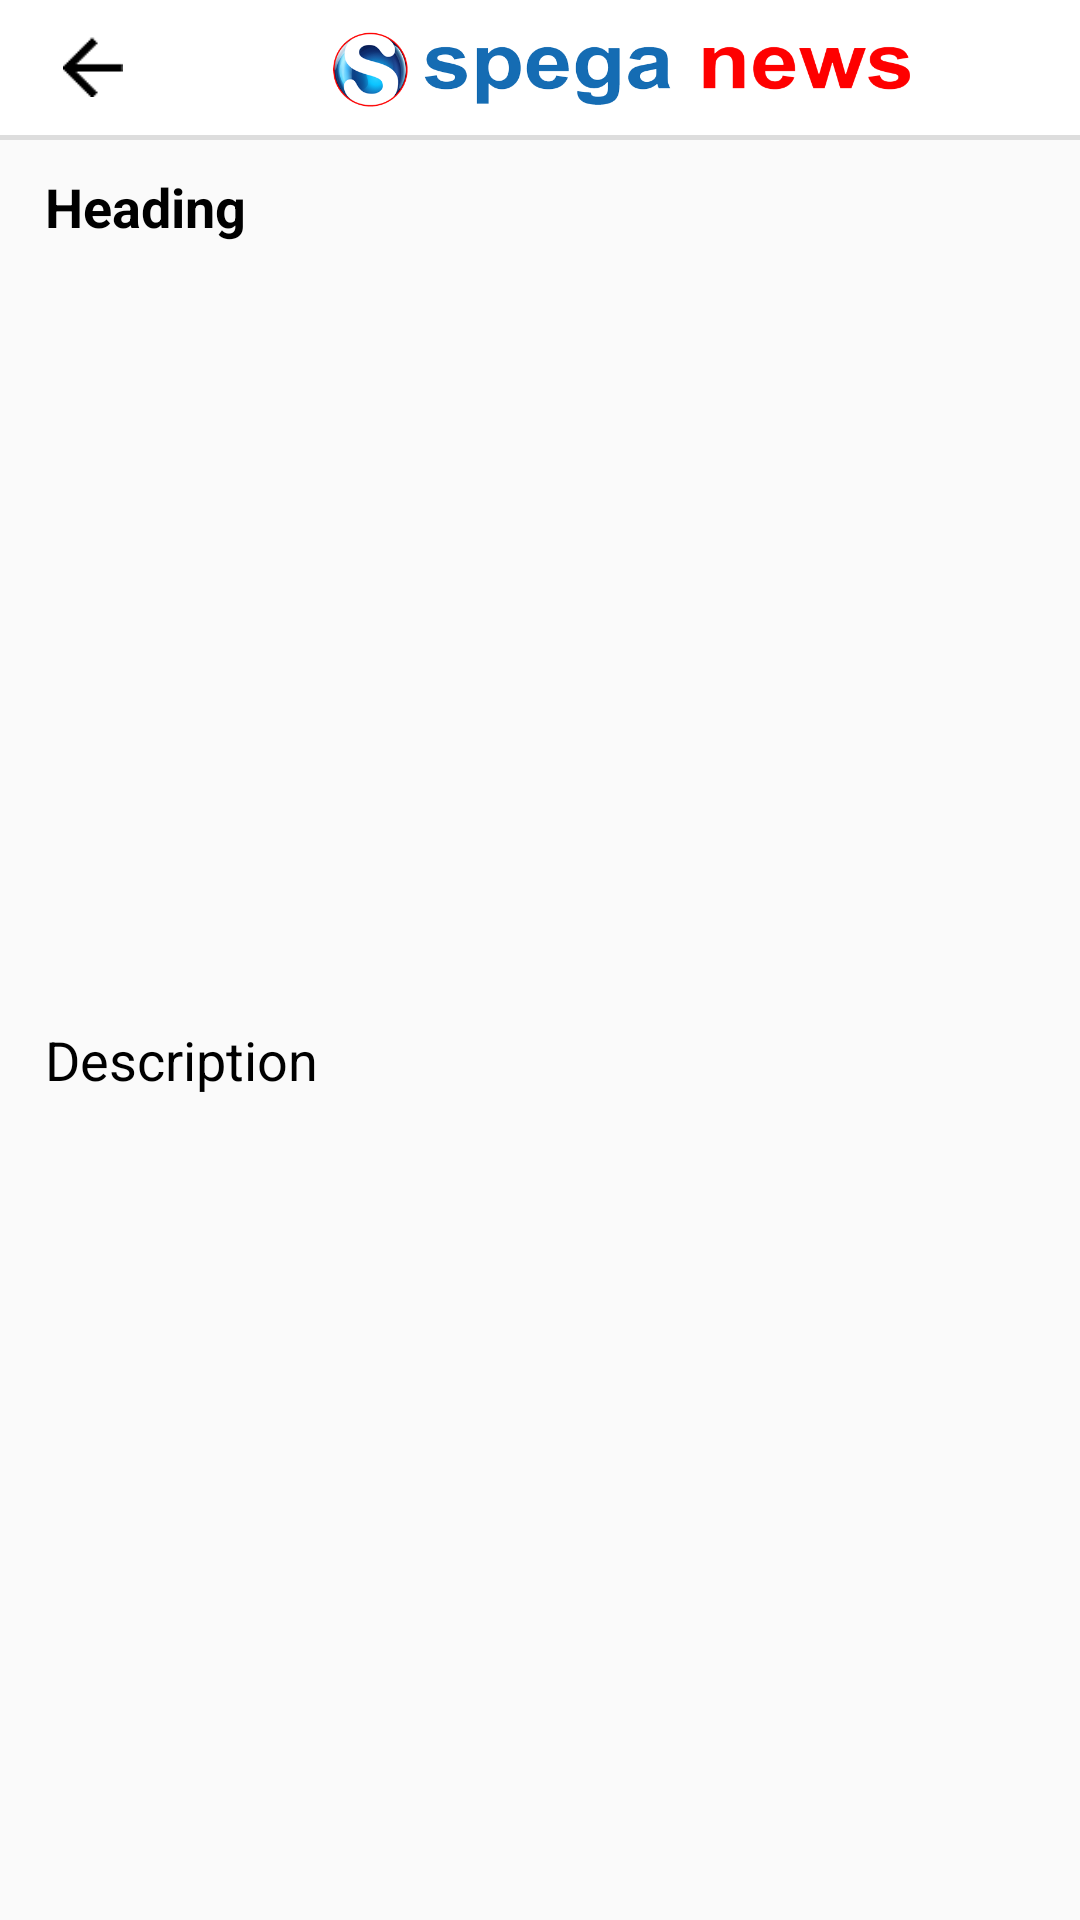

Locate icon controls on the screen. Image size 1080*1920, boxes as bbox=(x1, y1, x2, y2).
arrow back: bbox=(63, 37, 123, 97)
